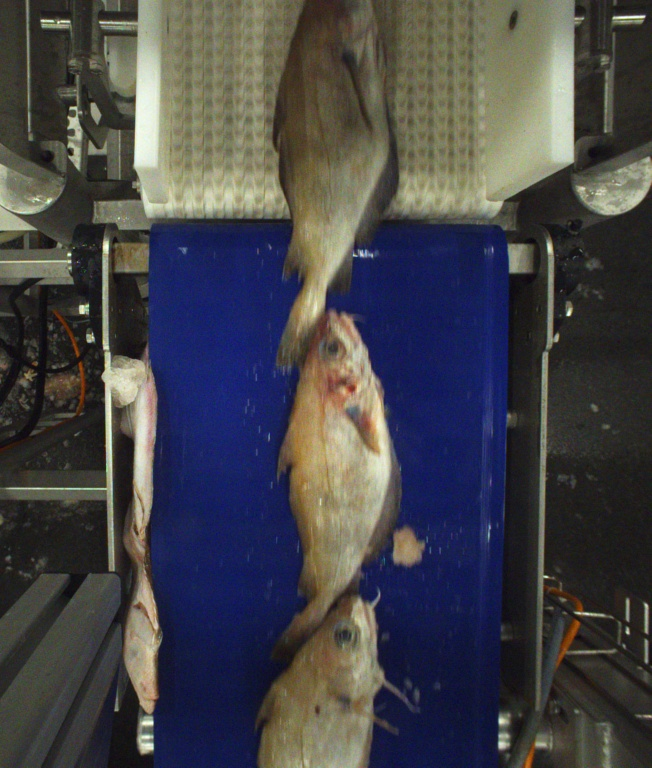BIB: (269, 311, 400, 665)
